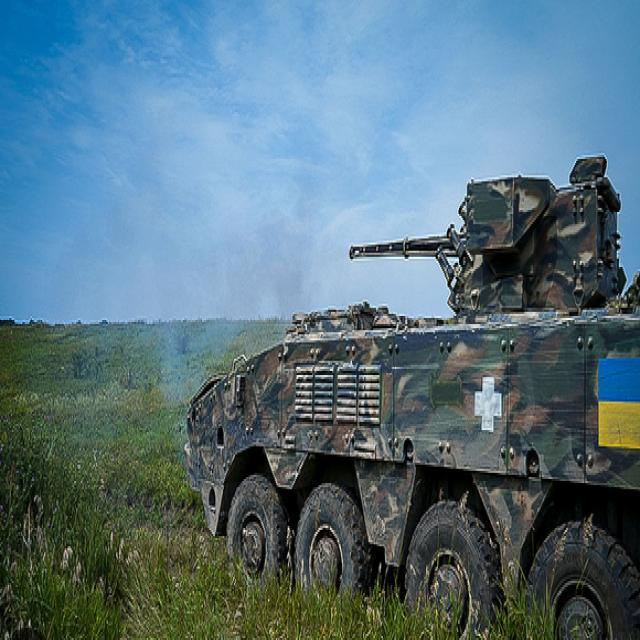MIL_APC: (155, 195, 640, 638)
